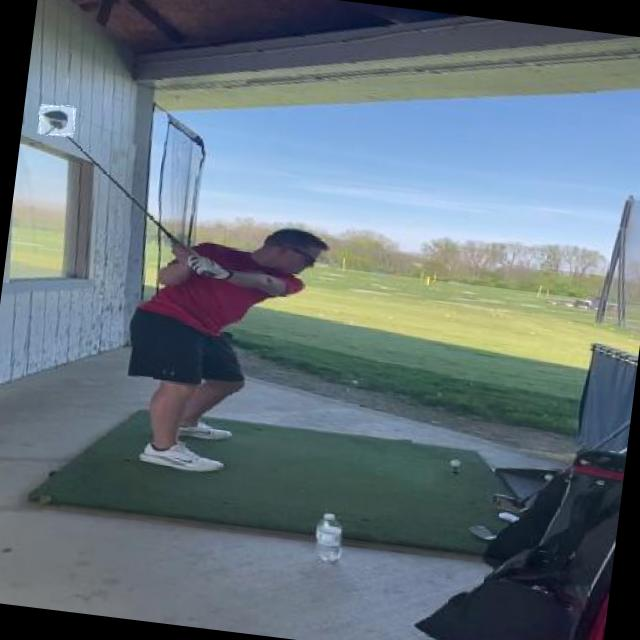club head: (38, 104, 76, 138)
